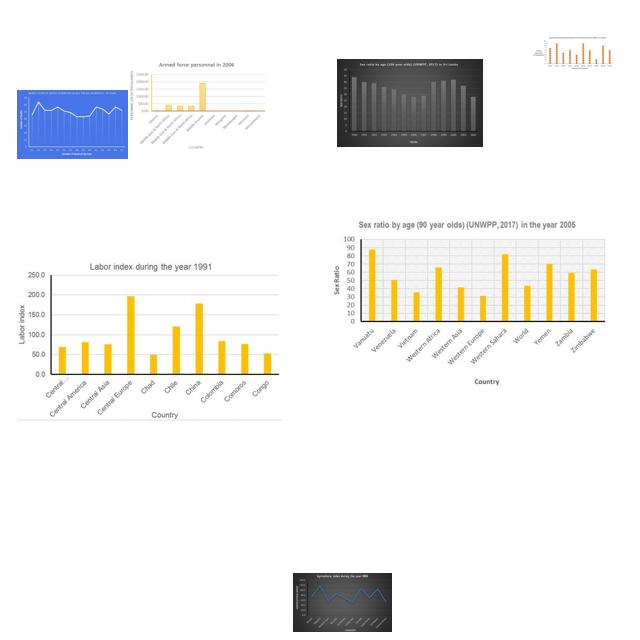Graph: (330, 216, 608, 386), (17, 261, 283, 421), (337, 59, 483, 147), (128, 60, 267, 151), (17, 90, 128, 159), (293, 573, 392, 632), (531, 36, 614, 71)
